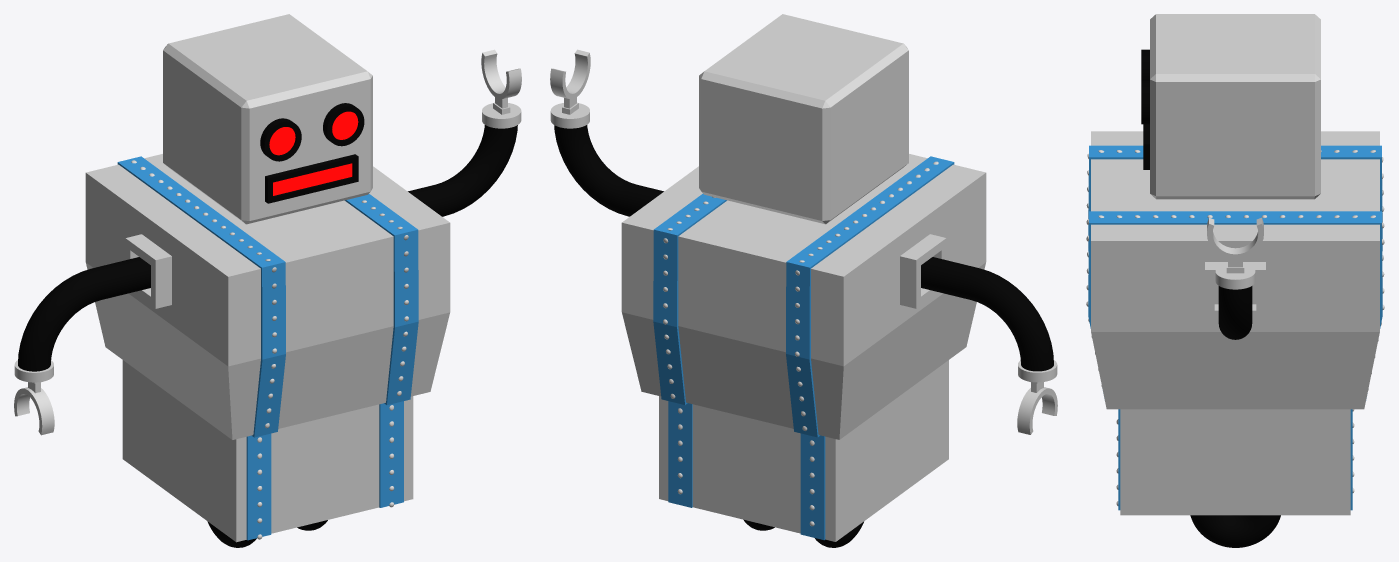
File: chatbot.fbx
3 renders of one model, left to right at view 1: azimuth 30°, elevation 25°; view 2: azimuth 150°, elevation 25°; view 3: azimuth 270°, elevation 25°, orthographic.
Parts seen in each view (by area): view 1: Cube, Cube.001, Cube.002; view 2: Cube, Cube.001, Cube.002; view 3: Cube, Cube.002.
Boxes of the visible parts, x1,y1,x2,y2 form: Cube: (85,14,450,547); Cube.001: (14,257,150,435); Cube.002: (408,49,521,216); Cube: (621,14,986,547); Cube.001: (921,257,1057,434); Cube.002: (550,49,663,216); Cube: (1086,14,1384,547); Cube.002: (1207,217,1263,339).
Size of the model in its own units: 161 by 147 by 81.85.
